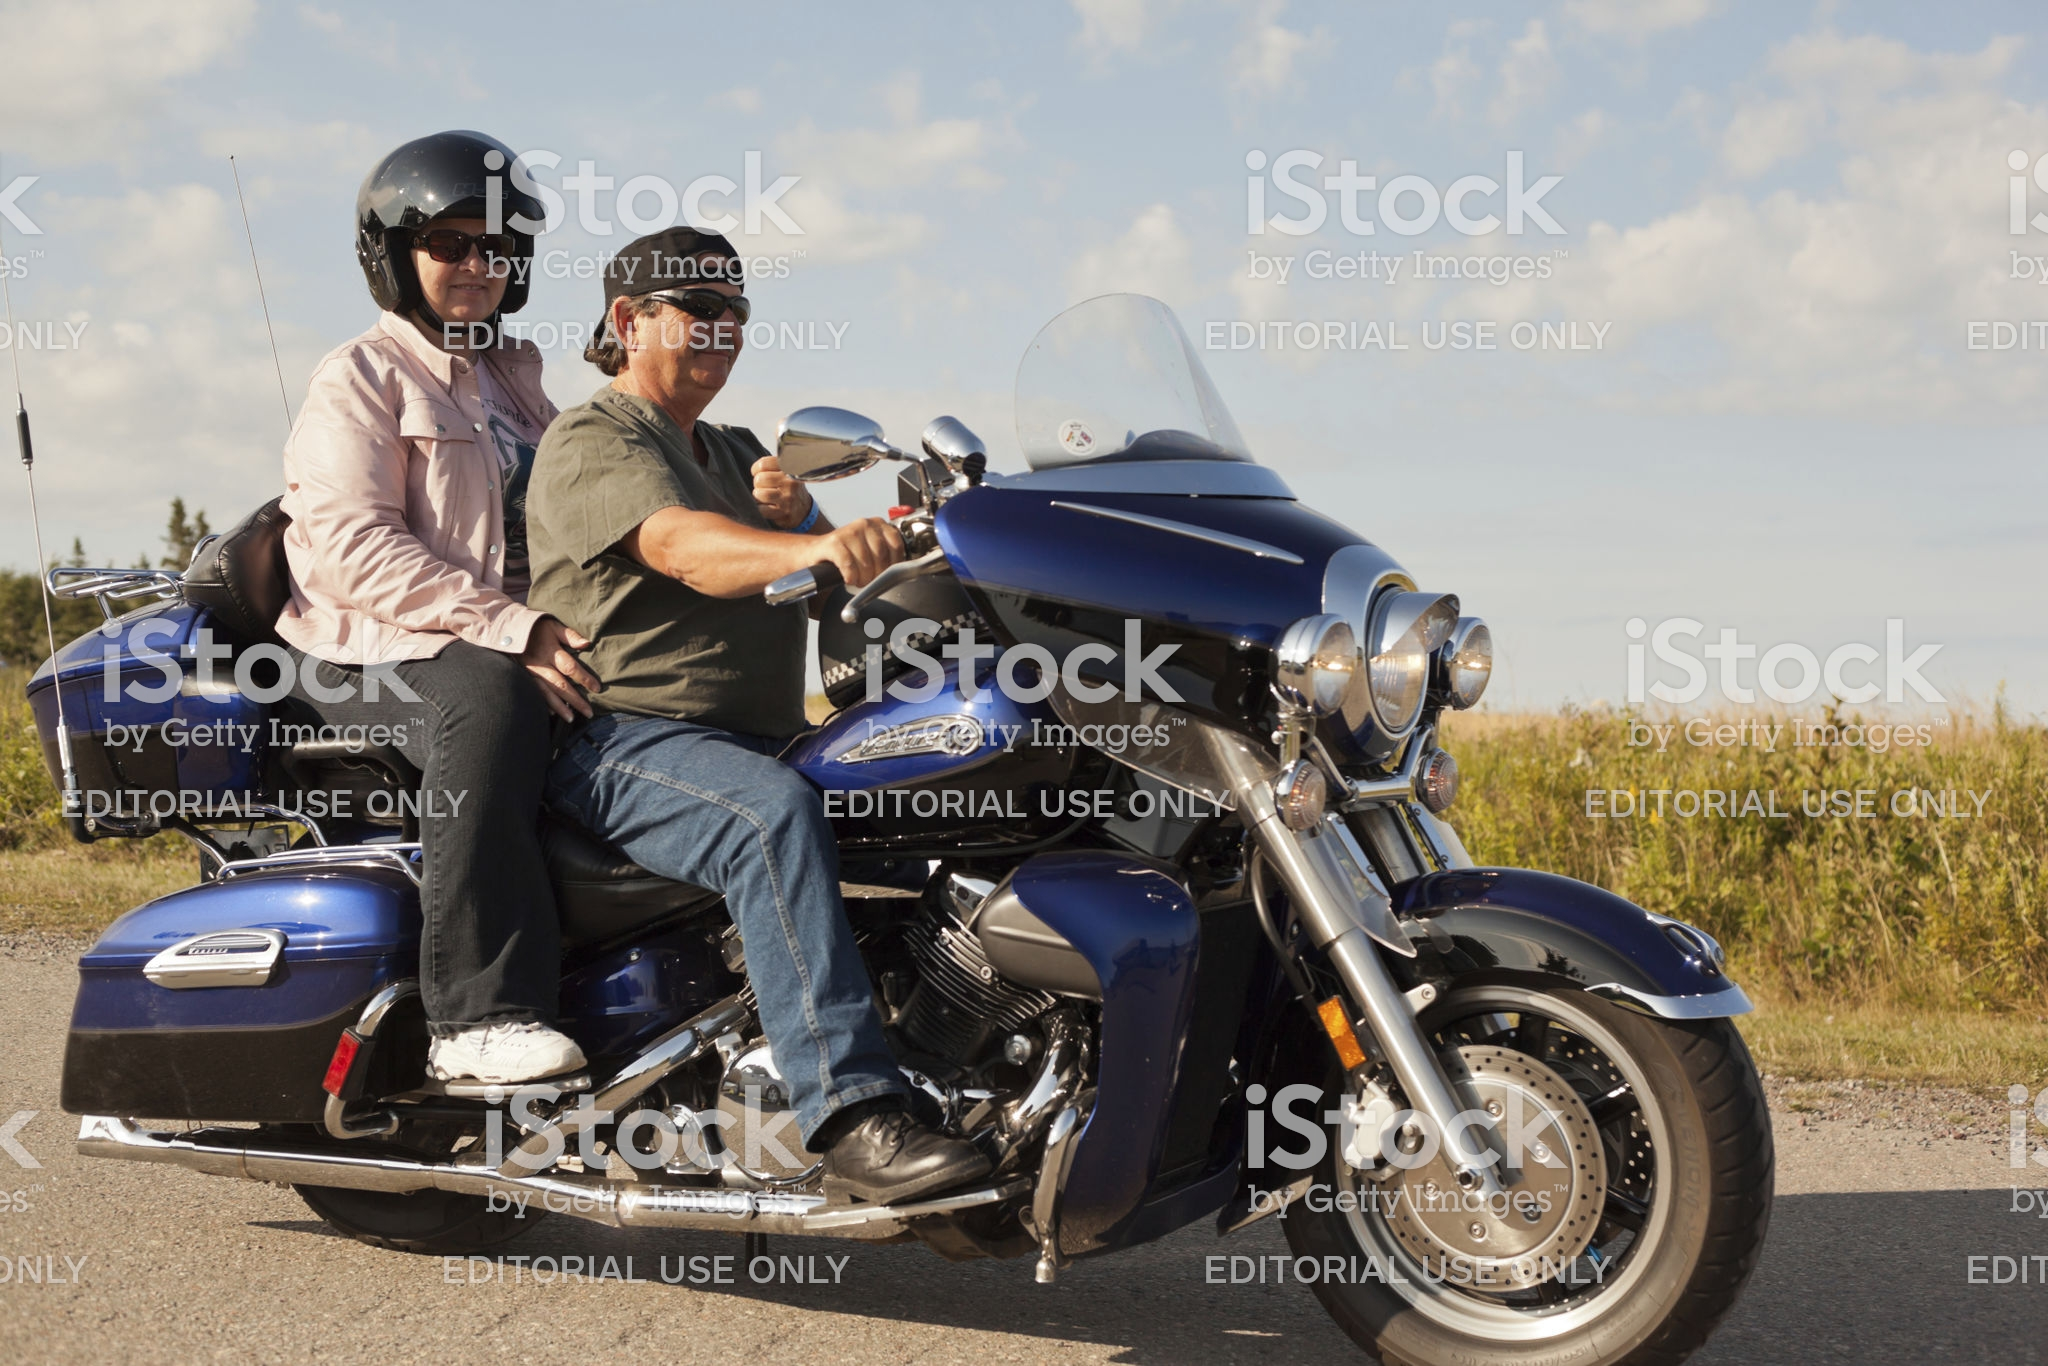helmet: (331, 140, 542, 303), (596, 197, 783, 329)
